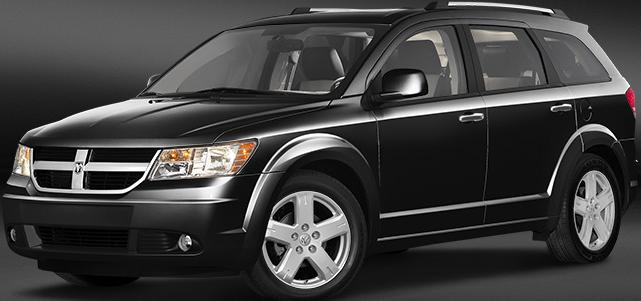front_view: (11, 134, 265, 284)
headlight: (150, 128, 261, 198)
side_glass: (374, 15, 605, 104)
